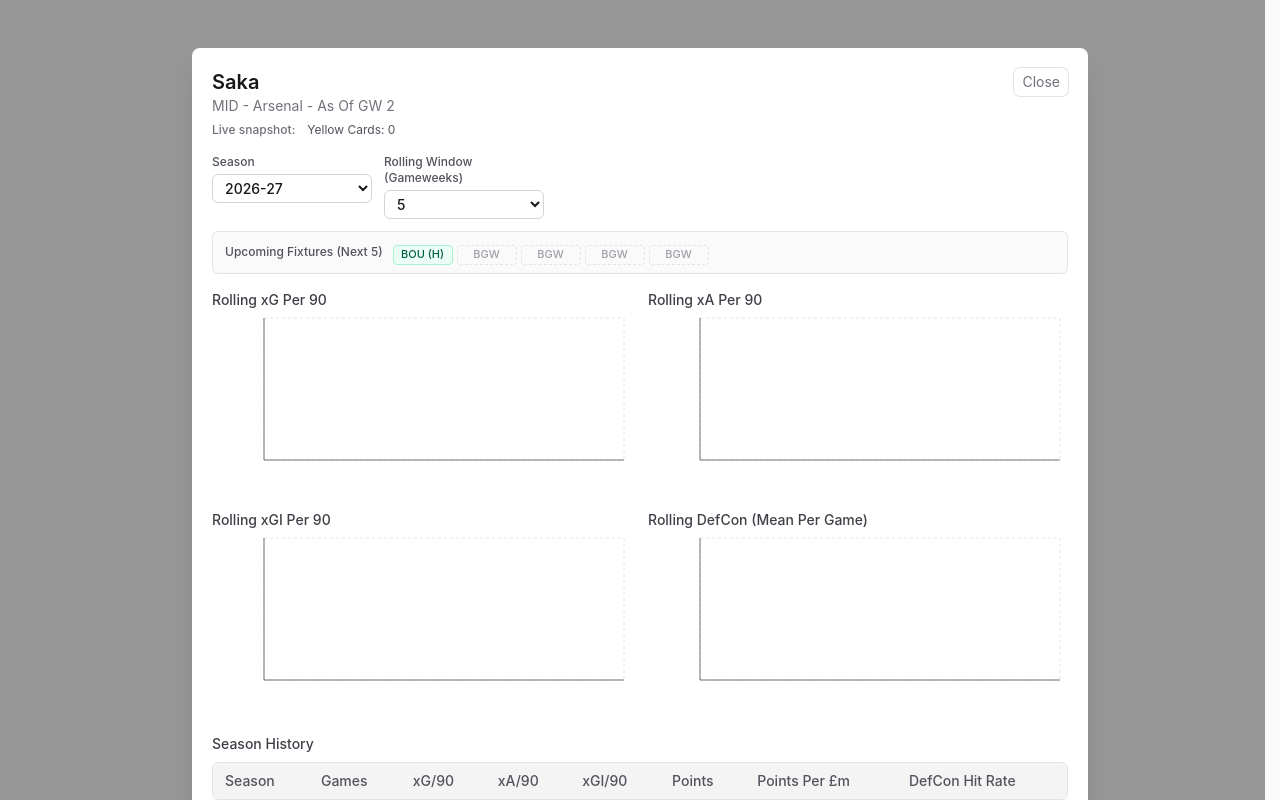
Test: keeps selectors usable after a failed season request without stale charts
Expected: the heading "Season History" is shown, [212,735,314,752]
Select "2025-26" in the dropdown labelled "Season" at (292, 188), box [212,174,372,203]
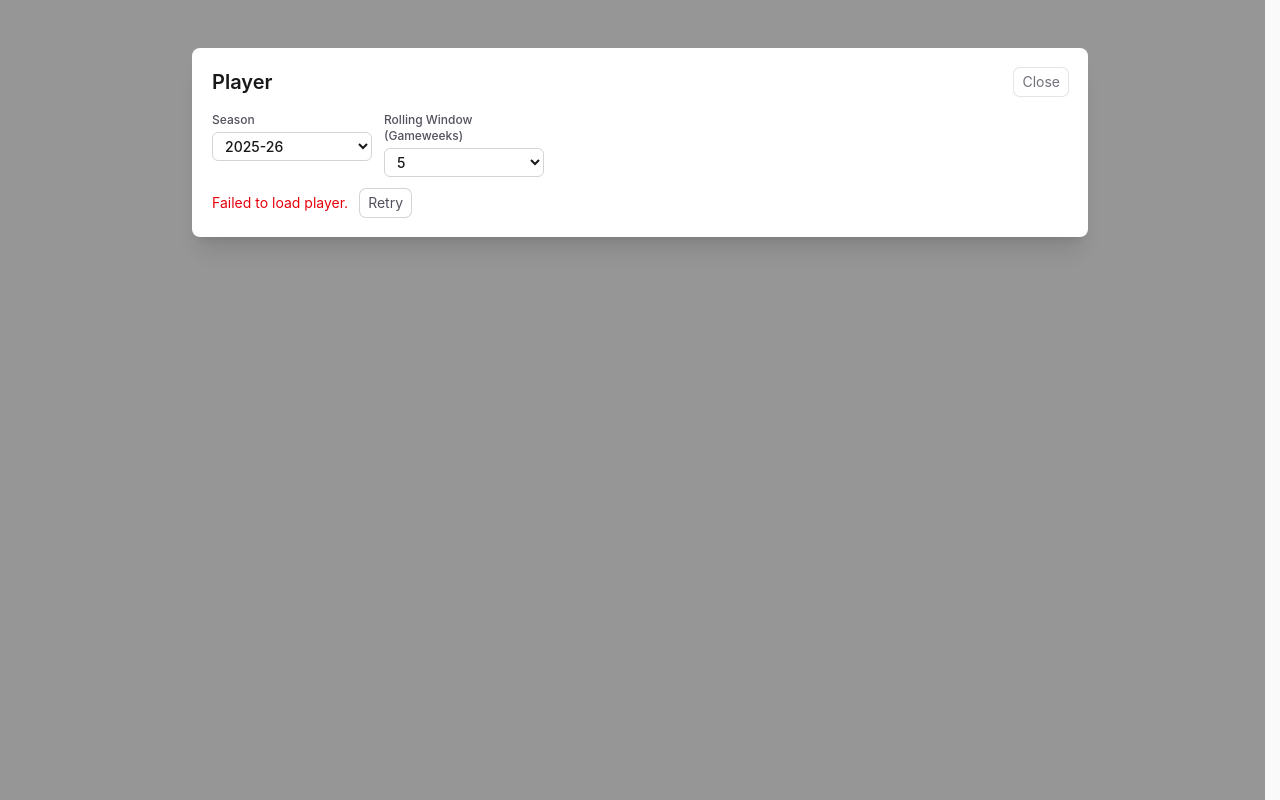
Now the text "Failed to load player." is shown, box [212,193,348,213]
Now the heading "Season History" is gone
Now the heading "Rolling xG Per 90" is gone
Select "6" in the dropdown labelled "Rolling Window (Gameweeks)" at (464, 162), box [384,148,544,177]
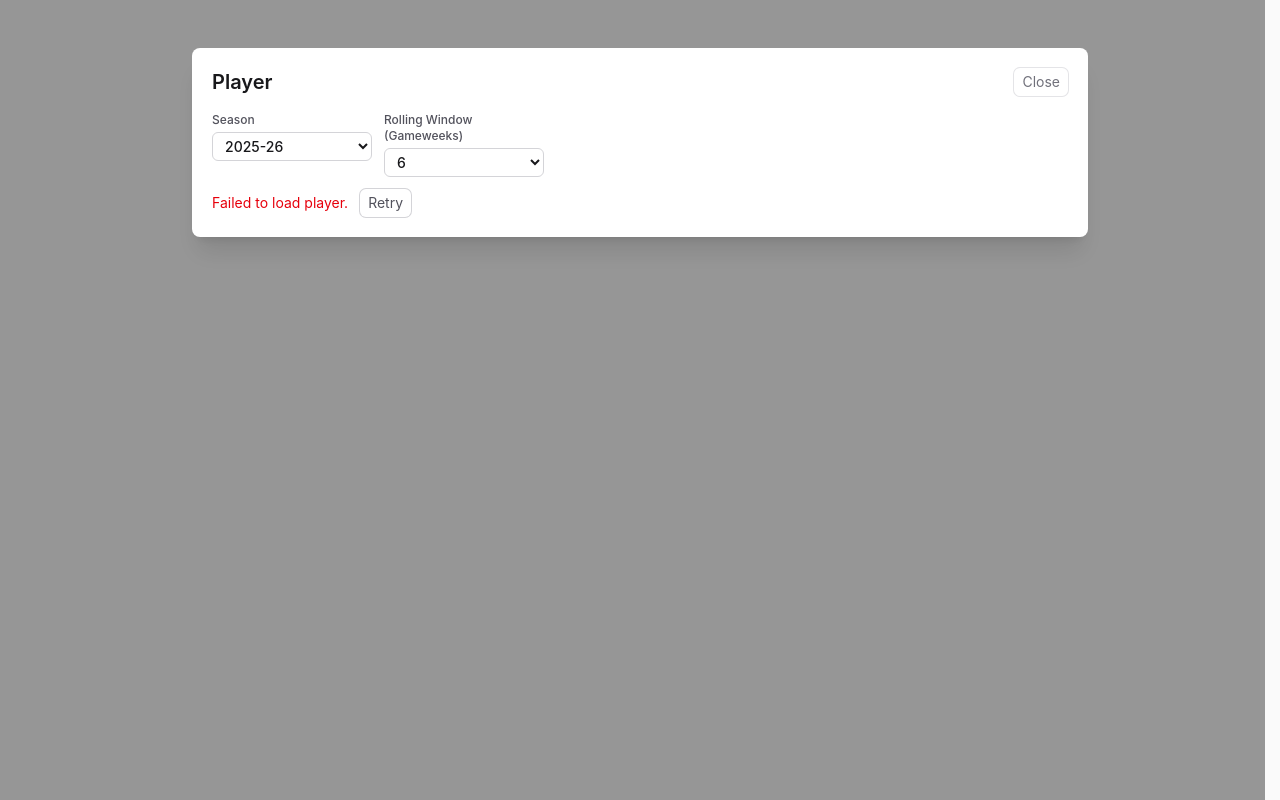
Now the text "Failed to load player." is shown, box [212,193,348,213]
Select "2024-25" in the dropdown labelled "Season" at (292, 146), box [212,132,372,161]
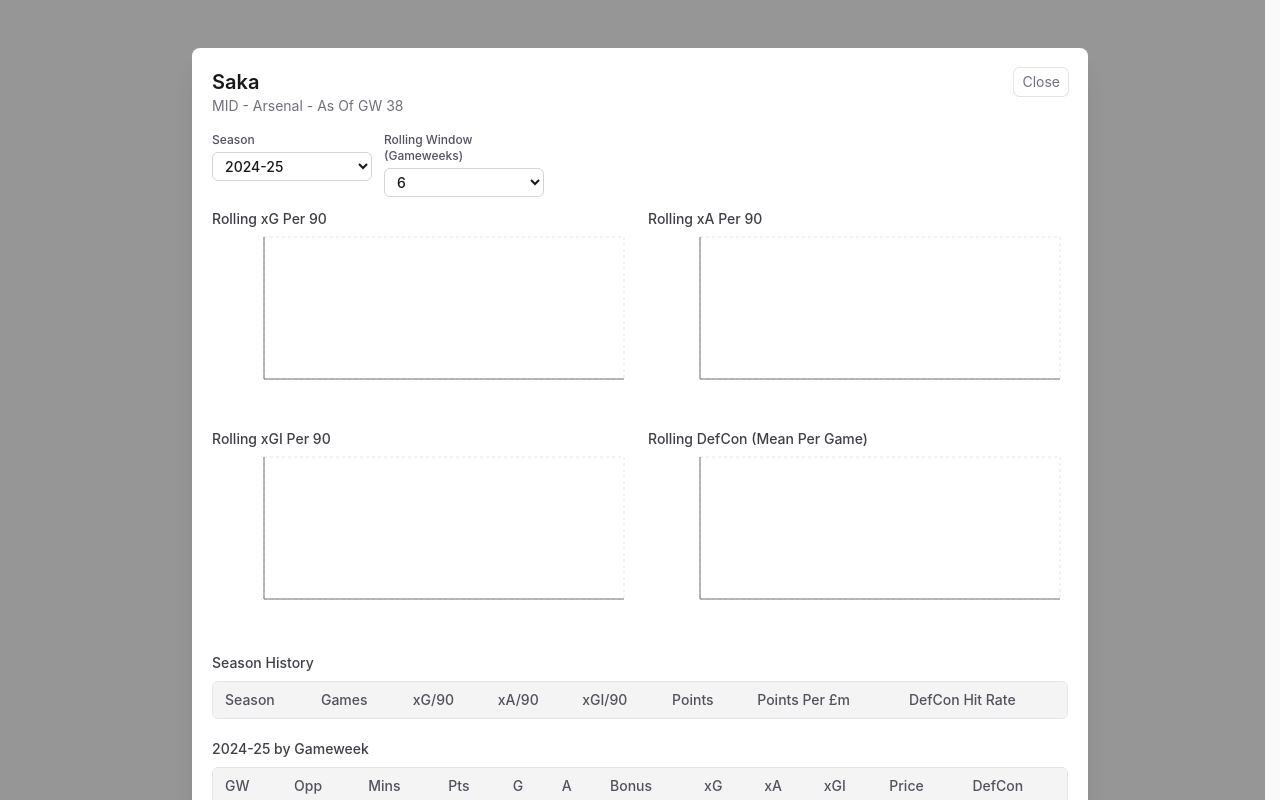
Now the text "Failed to load player." is gone
